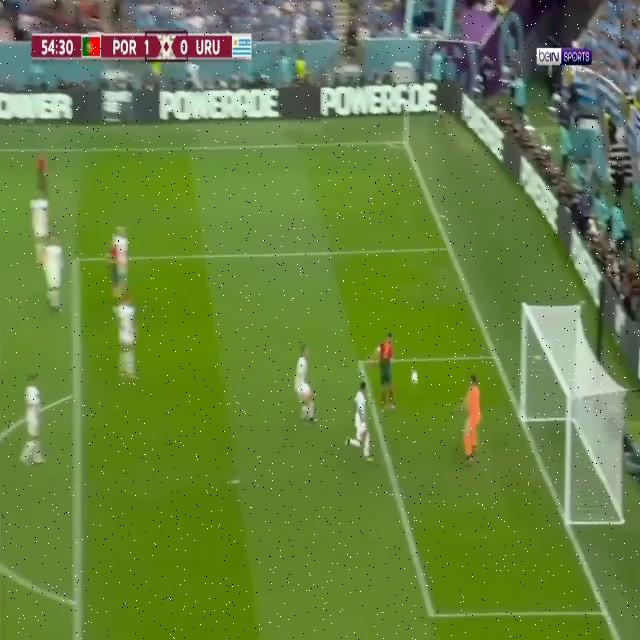Ball: (411, 370, 418, 385)
GoalKeeper: (455, 375, 482, 467)
TEAM 1: (374, 326, 396, 415), (106, 242, 122, 303), (31, 151, 51, 198)
TEAM 2: (18, 373, 46, 472), (291, 341, 319, 427), (346, 381, 374, 464), (113, 296, 137, 378), (43, 231, 64, 316), (28, 186, 48, 262), (114, 228, 130, 292)
